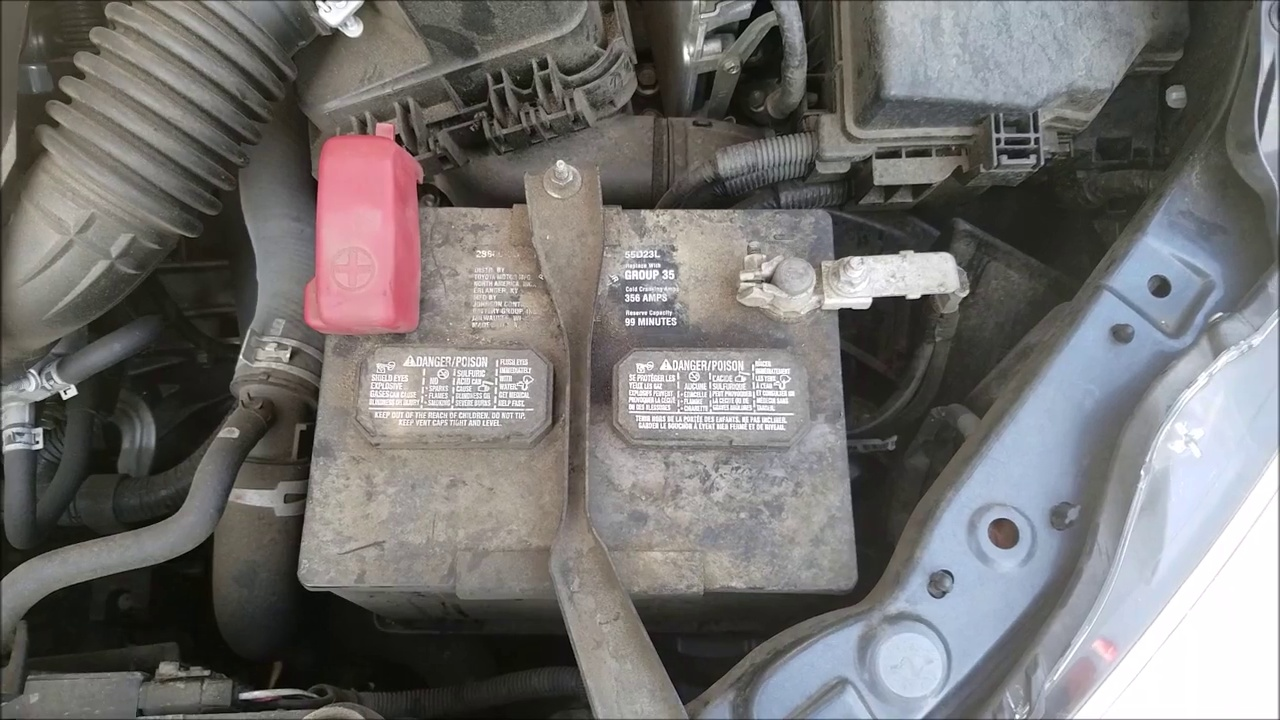battery: (295, 132, 890, 634)
neg_connected: (716, 232, 955, 346)
pos_connected: (305, 135, 443, 342)
